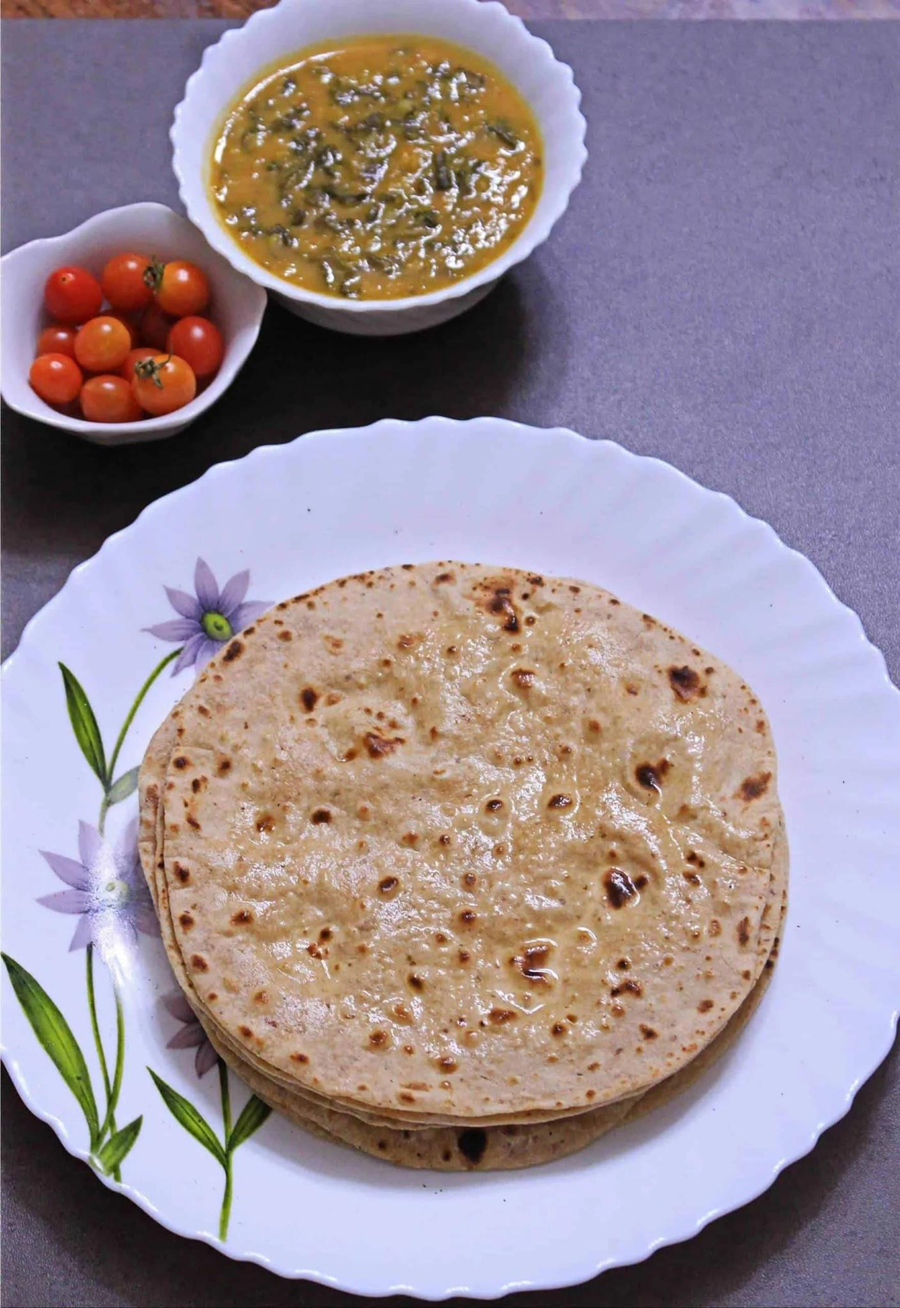roti phulka: (138, 546, 791, 1171)
